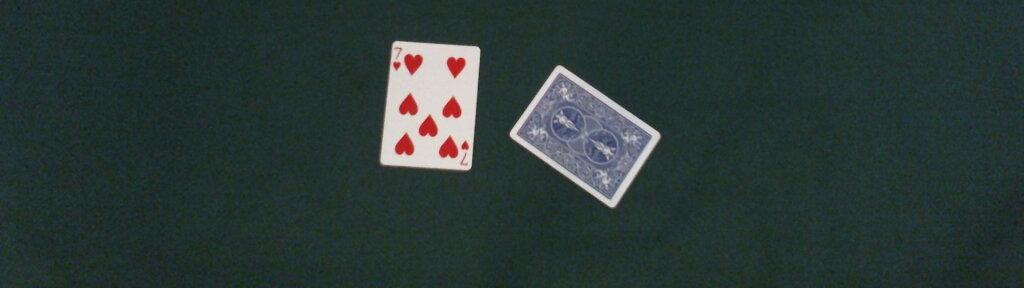back: (507, 63, 661, 208)
seven: (378, 40, 480, 171)
